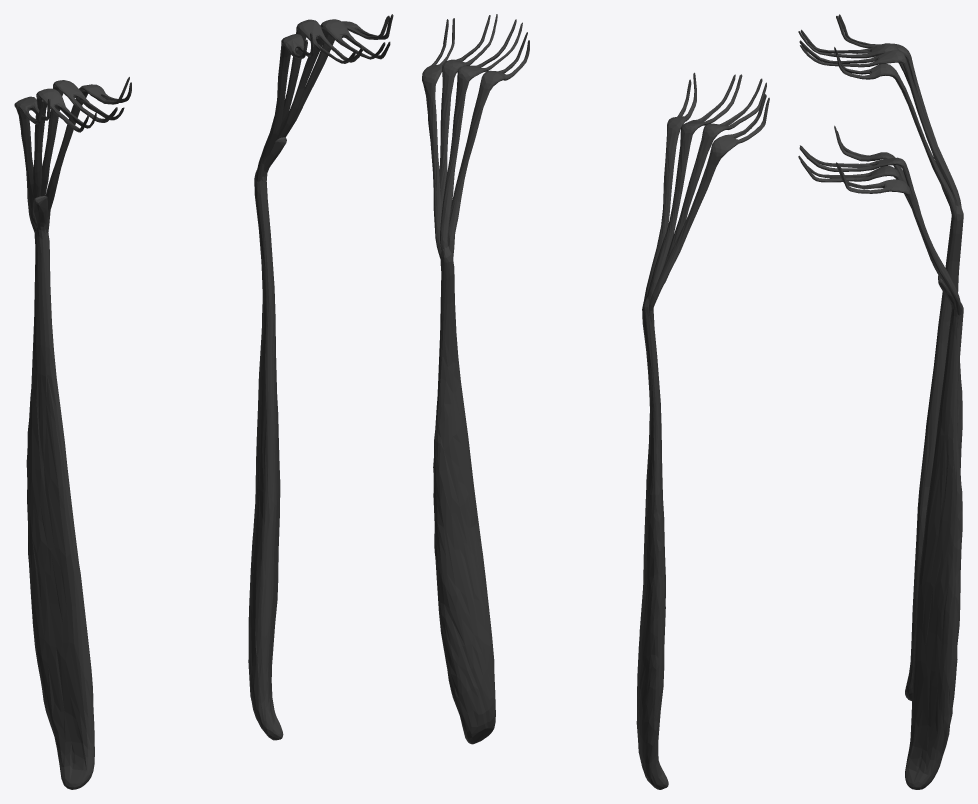
Rendered from m_flexor_digitorum_superficialis.glb.
3 renders of one model, left to right at view 1: azimuth 30°, elevation 25°; view 2: azimuth 150°, elevation 25°; view 3: azimuth 270°, elevation 25°, orthographic. The views are drawn at different scales.
Parts seen in each view (by area): view 1: m_flexor_digitorum_superficialis; view 2: m_flexor_digitorum_superficialis; view 3: m_flexor_digitorum_superficialis.
Part boxes in pixels (box(x1,y1,x2,y2)): m_flexor_digitorum_superficialis: box(14, 14, 393, 789); m_flexor_digitorum_superficialis: box(422, 14, 769, 789); m_flexor_digitorum_superficialis: box(798, 14, 963, 789).
Size of the model in its own units: 0.00451 by 0.00911 by 0.00207.
Materials: 1 (1 with a texture image).
